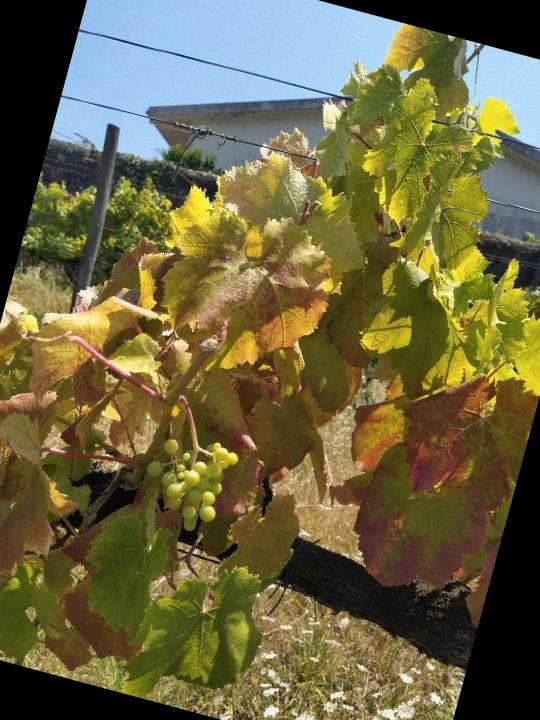grape: (134, 422, 245, 540)
